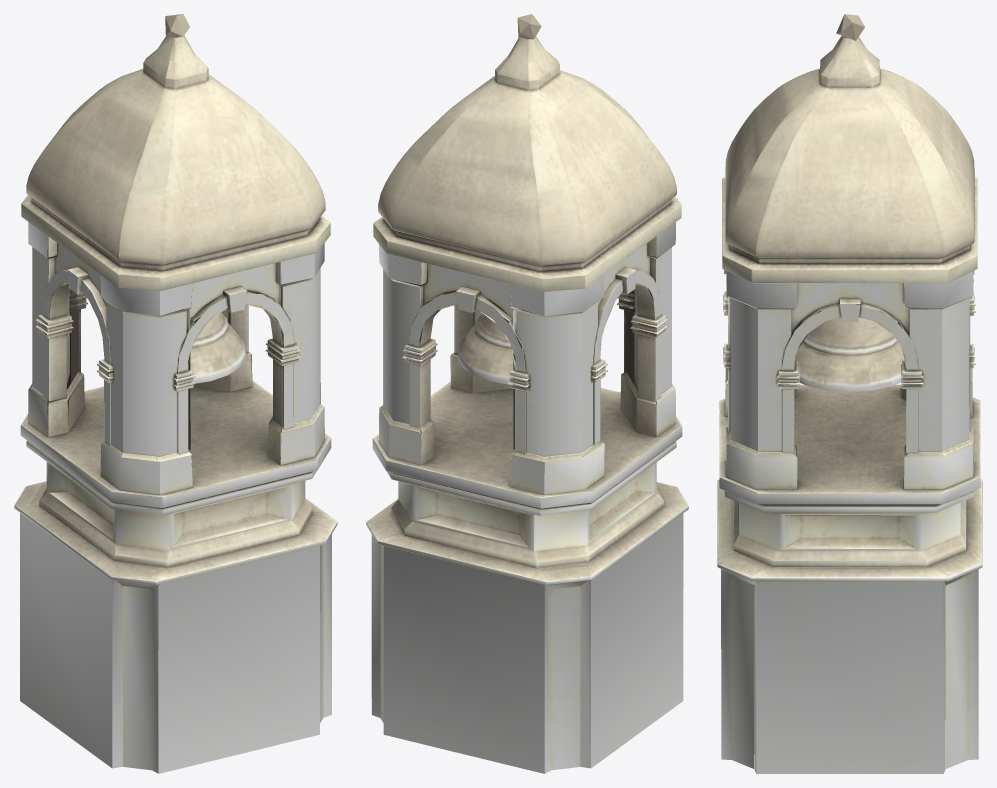
File: a20_bell_tower.glb
3 renders of one model, left to right at view 1: azimuth 30°, elevation 25°; view 2: azimuth 150°, elevation 25°; view 3: azimuth 270°, elevation 25°, orthographic.
Parts seen in each view (by area): view 1: body; view 2: body; view 3: body.
Boxes of the visible parts, box(x1,y1,x2,y2) form: body: box(14, 14, 337, 773); body: box(366, 14, 688, 773); body: box(717, 14, 982, 773).
Bounding box in the file's own units: 0.9999 × 2.93 × 1.
Materials: 2 (1 with a texture image).
